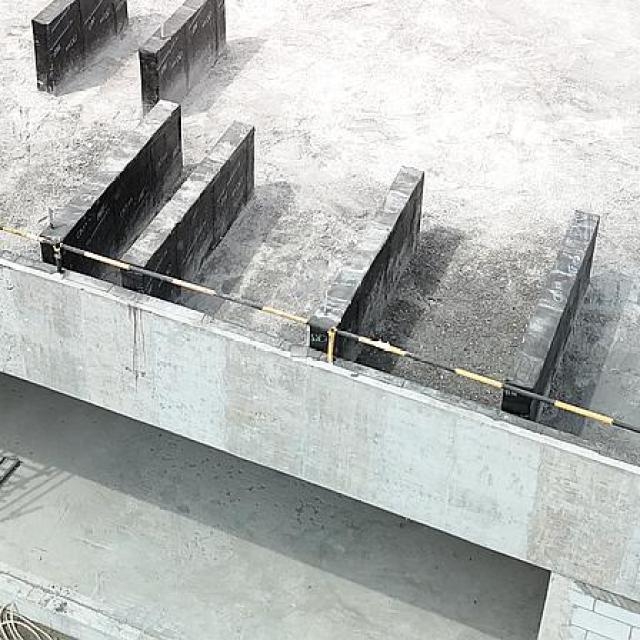edge_guardrail: (0, 224, 640, 437)
